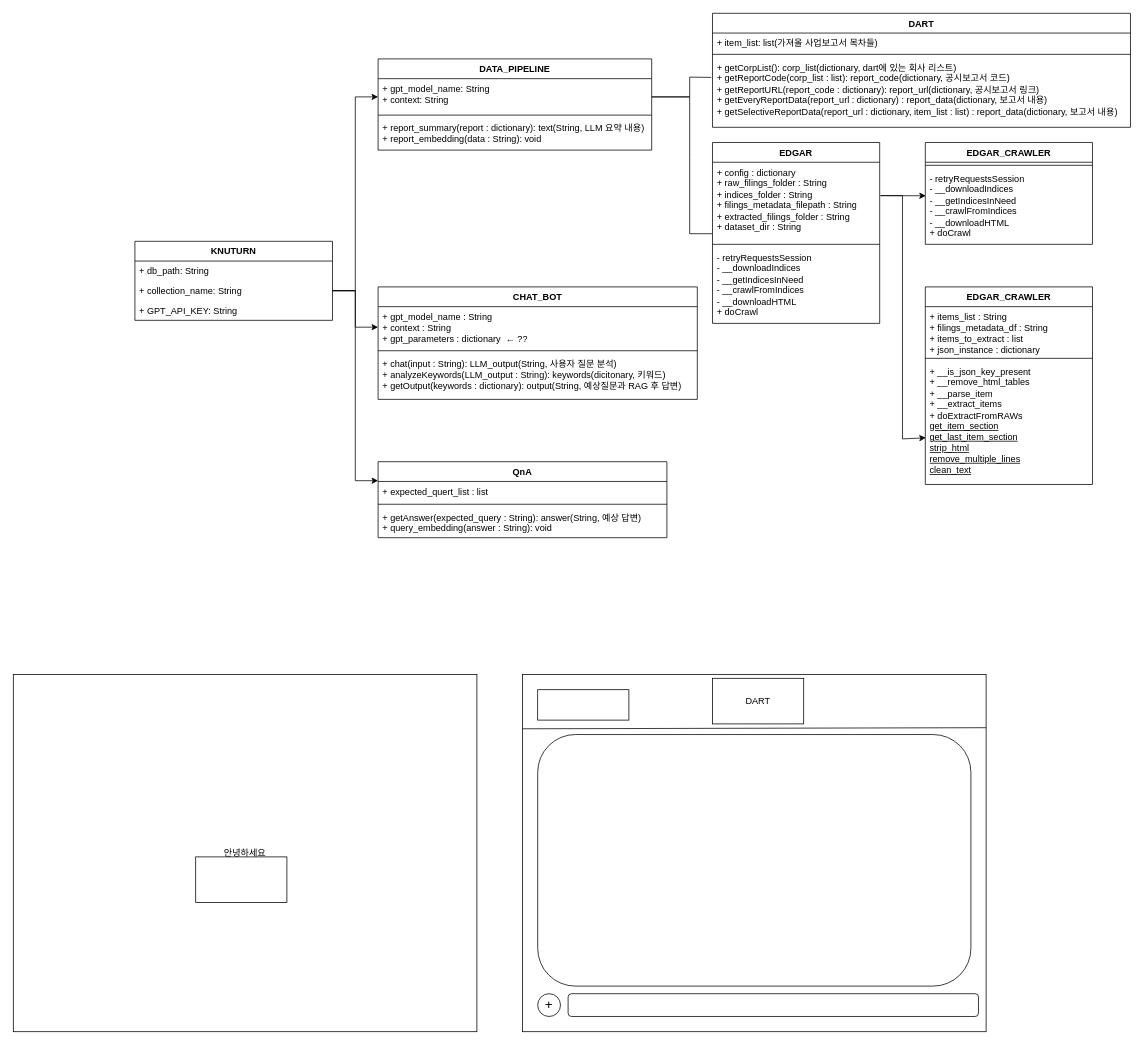
This 1144x1045 diagram has some shape labels left out. Each missing label, with the centre of its shape:
"Dropdown (회사1 selected)" belongs at (x=583, y=704).
"Dropdown (회사1 선택)" belongs at (x=241, y=879).
